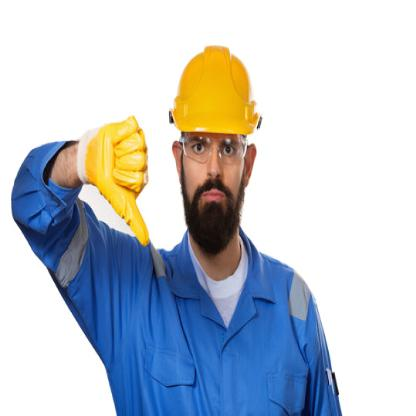Thumbs Down: (70, 96, 169, 264)
